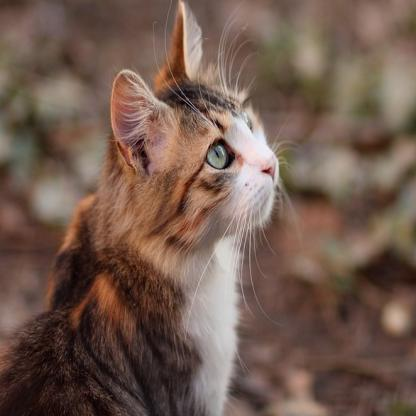cat: (1, 0, 280, 415)
